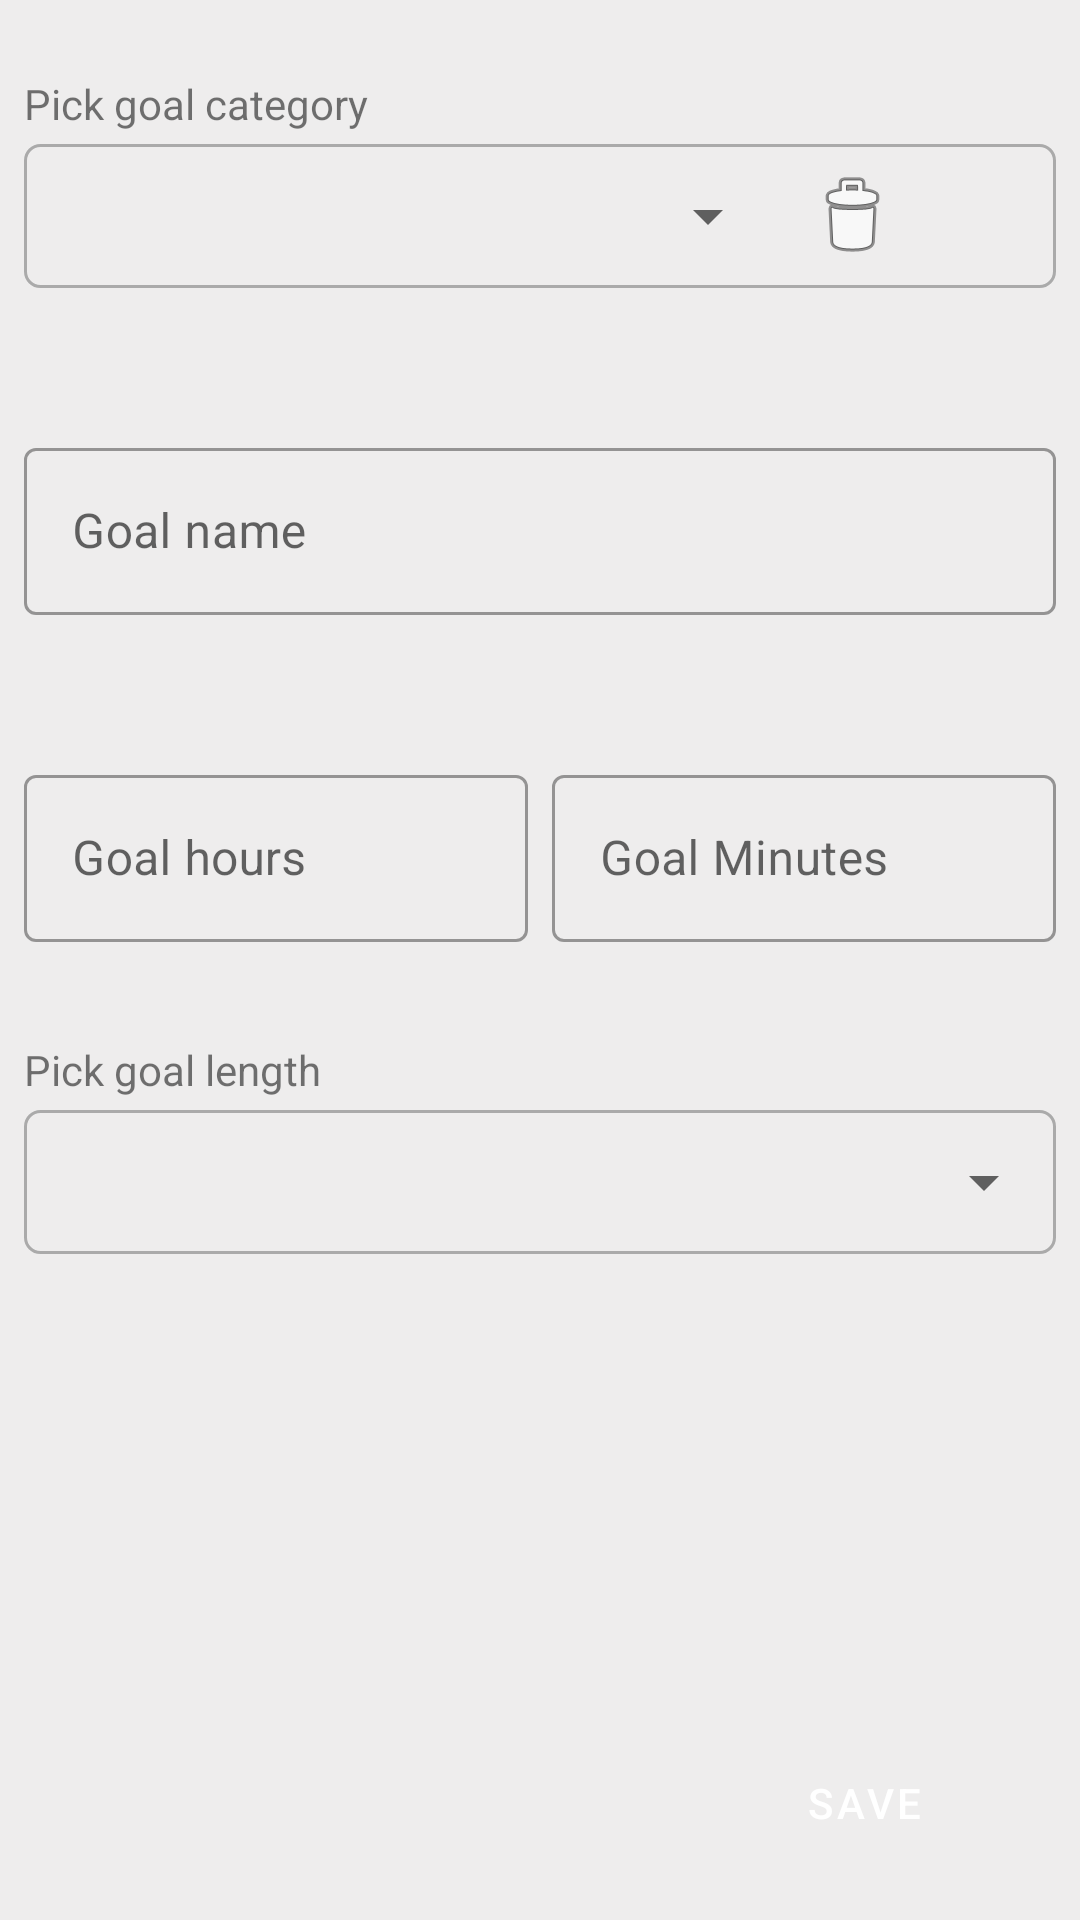

Icons on this 1080*1920 Android screen, each with the point to tap as (x=x, y=y):
delete: (x=852, y=214)
